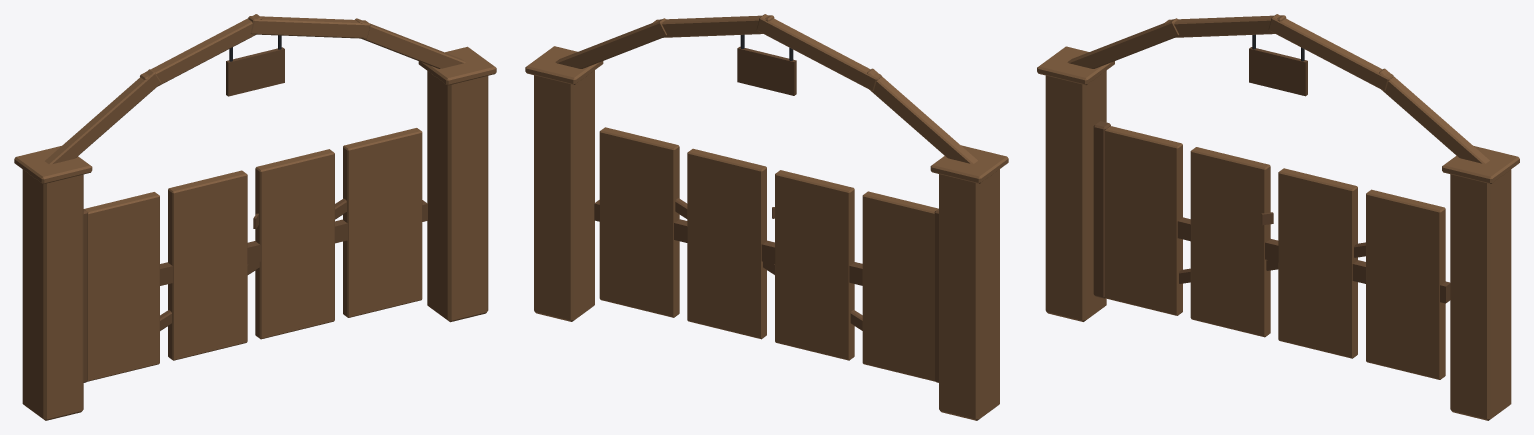
The model's file is SM_Fence_TavernPicket_02_Gate.fbx.
3 views of the same model, side by side, from view 1: azimuth 30°, elevation 25°; view 2: azimuth 150°, elevation 25°; view 3: azimuth 330°, elevation 25° (orthographic).
Parts seen in each view (by area): view 1: SM_Fence_TavernPicket_02_Gate_PostHinge, SM_Fence_TavernPicket_02_Gate_PostLatch, SM_Fence_TavernPicket_02_Gate_Leaf_Plank3, SM_Fence_TavernPicket_02_Gate_Leaf_Plank1, SM_Fence_TavernPicket_02_Gate_Leaf_Plank2, SM_Fence_TavernPicket_02_Gate_Leaf_Plank0, SM_Fence_TavernPicket_02_Gate_Arch0, SM_Fence_TavernPicket_02_Gate_Arch2, SM_Fence_TavernPicket_02_Gate_SignBoard, SM_Fence_TavernPicket_02_Gate_Arch1, SM_Fence_TavernPicket_02_Gate_Arch3, SM_Fence_TavernPicket_02_Gate_PostHinge_Cap (+4 smaller); view 2: SM_Fence_TavernPicket_02_Gate_PostHinge, SM_Fence_TavernPicket_02_Gate_PostLatch, SM_Fence_TavernPicket_02_Gate_Leaf_Plank3, SM_Fence_TavernPicket_02_Gate_Leaf_Plank2, SM_Fence_TavernPicket_02_Gate_Leaf_Plank1, SM_Fence_TavernPicket_02_Gate_Leaf_Plank0, SM_Fence_TavernPicket_02_Gate_Arch1, SM_Fence_TavernPicket_02_Gate_Arch0, SM_Fence_TavernPicket_02_Gate_SignBoard, SM_Fence_TavernPicket_02_Gate_Arch3, SM_Fence_TavernPicket_02_Gate_Arch2, SM_Fence_TavernPicket_02_Gate_PostHinge_Cap (+4 smaller); view 3: SM_Fence_TavernPicket_02_Gate_PostLatch, SM_Fence_TavernPicket_02_Gate_Leaf_Plank1, SM_Fence_TavernPicket_02_Gate_Leaf_Plank3, SM_Fence_TavernPicket_02_Gate_Leaf_Plank2, SM_Fence_TavernPicket_02_Gate_Leaf_Plank0, SM_Fence_TavernPicket_02_Gate_PostHinge, SM_Fence_TavernPicket_02_Gate_Arch2, SM_Fence_TavernPicket_02_Gate_Arch3, SM_Fence_TavernPicket_02_Gate_SignBoard, SM_Fence_TavernPicket_02_Gate_Leaf, SM_Fence_TavernPicket_02_Gate_Arch0, SM_Fence_TavernPicket_02_Gate_Arch1 (+4 smaller).
Part boxes in pixels (x1,y1,x2,y2): SM_Fence_TavernPicket_02_Gate_PostHinge: (22, 169, 83, 420); SM_Fence_TavernPicket_02_Gate_PostLatch: (427, 71, 488, 322); SM_Fence_TavernPicket_02_Gate_Leaf_Plank3: (343, 128, 422, 317); SM_Fence_TavernPicket_02_Gate_Leaf_Plank1: (168, 170, 247, 360); SM_Fence_TavernPicket_02_Gate_Leaf_Plank2: (255, 149, 334, 339); SM_Fence_TavernPicket_02_Gate_Leaf_Plank0: (84, 192, 159, 381); SM_Fence_TavernPicket_02_Gate_Arch0: (45, 69, 161, 164); SM_Fence_TavernPicket_02_Gate_Arch2: (248, 16, 370, 38); SM_Fence_TavernPicket_02_Gate_SignBoard: (226, 47, 284, 96); SM_Fence_TavernPicket_02_Gate_Arch1: (140, 14, 262, 86); SM_Fence_TavernPicket_02_Gate_Arch3: (355, 18, 465, 68); SM_Fence_TavernPicket_02_Gate_PostHinge_Cap: (14, 146, 92, 184); SM_Fence_TavernPicket_02_Gate_PostHinge: (939, 169, 999, 420); SM_Fence_TavernPicket_02_Gate_PostLatch: (534, 70, 594, 321); SM_Fence_TavernPicket_02_Gate_Leaf_Plank3: (599, 127, 679, 317); SM_Fence_TavernPicket_02_Gate_Leaf_Plank2: (687, 148, 766, 339); SM_Fence_TavernPicket_02_Gate_Leaf_Plank1: (775, 170, 854, 360); SM_Fence_TavernPicket_02_Gate_Leaf_Plank0: (862, 191, 938, 381); SM_Fence_TavernPicket_02_Gate_Arch1: (756, 14, 881, 90); SM_Fence_TavernPicket_02_Gate_Arch0: (867, 68, 977, 163); SM_Fence_TavernPicket_02_Gate_SignBoard: (737, 46, 796, 95); SM_Fence_TavernPicket_02_Gate_Arch3: (555, 18, 666, 68); SM_Fence_TavernPicket_02_Gate_Arch2: (651, 15, 774, 37); SM_Fence_TavernPicket_02_Gate_PostHinge_Cap: (930, 145, 1008, 183); SM_Fence_TavernPicket_02_Gate_PostLatch: (1450, 169, 1511, 420); SM_Fence_TavernPicket_02_Gate_Leaf_Plank1: (1190, 147, 1270, 337); SM_Fence_TavernPicket_02_Gate_Leaf_Plank3: (1366, 189, 1445, 379); SM_Fence_TavernPicket_02_Gate_Leaf_Plank2: (1278, 168, 1357, 358); SM_Fence_TavernPicket_02_Gate_Leaf_Plank0: (1104, 126, 1182, 315); SM_Fence_TavernPicket_02_Gate_PostHinge: (1045, 70, 1106, 321); SM_Fence_TavernPicket_02_Gate_Arch2: (1268, 14, 1393, 90); SM_Fence_TavernPicket_02_Gate_Arch3: (1379, 68, 1489, 163); SM_Fence_TavernPicket_02_Gate_SignBoard: (1249, 47, 1307, 96); SM_Fence_TavernPicket_02_Gate_Leaf: (1093, 121, 1110, 298); SM_Fence_TavernPicket_02_Gate_Arch0: (1067, 18, 1179, 68); SM_Fence_TavernPicket_02_Gate_Arch1: (1163, 15, 1286, 37).
Bounding box in the file's own units: 2.25 × 1.62 × 0.25.
